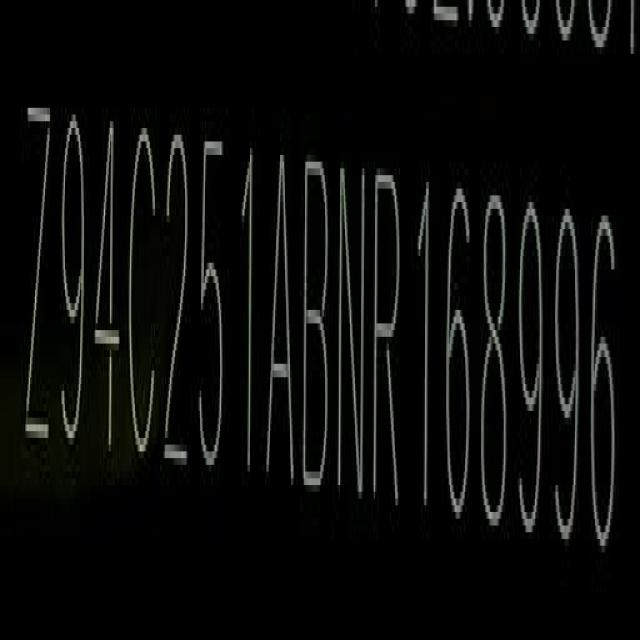1: (417, 174, 433, 516), (240, 140, 255, 479)
2: (163, 124, 191, 477)
4: (92, 110, 120, 462)
5: (197, 132, 225, 467)
6: (588, 180, 620, 564), (443, 175, 472, 524)
8: (480, 185, 509, 534)
9: (58, 102, 88, 454), (516, 197, 545, 539), (554, 202, 581, 547)
A: (264, 152, 297, 484)
B: (302, 144, 332, 502)
C: (127, 122, 158, 477)
N: (334, 157, 367, 504)
R: (370, 164, 402, 506)
Z: (25, 87, 53, 474)
